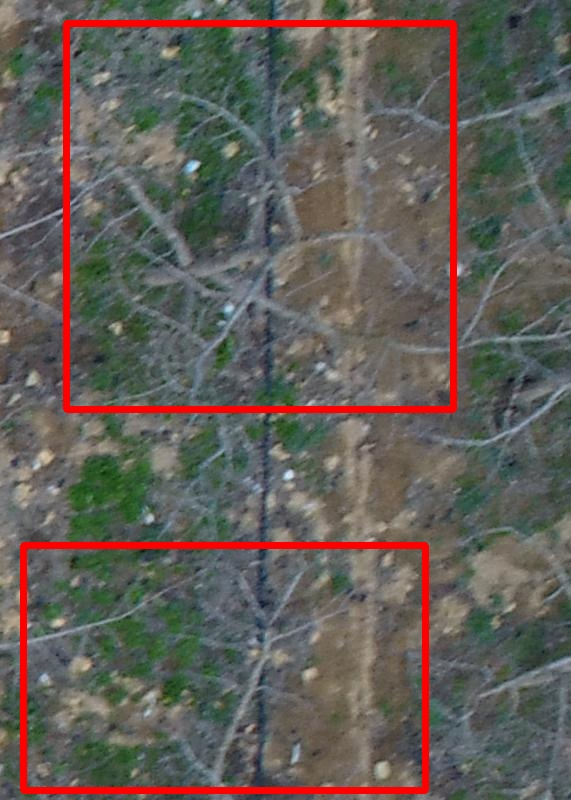apple: (66, 23, 453, 409), (23, 545, 425, 790)
